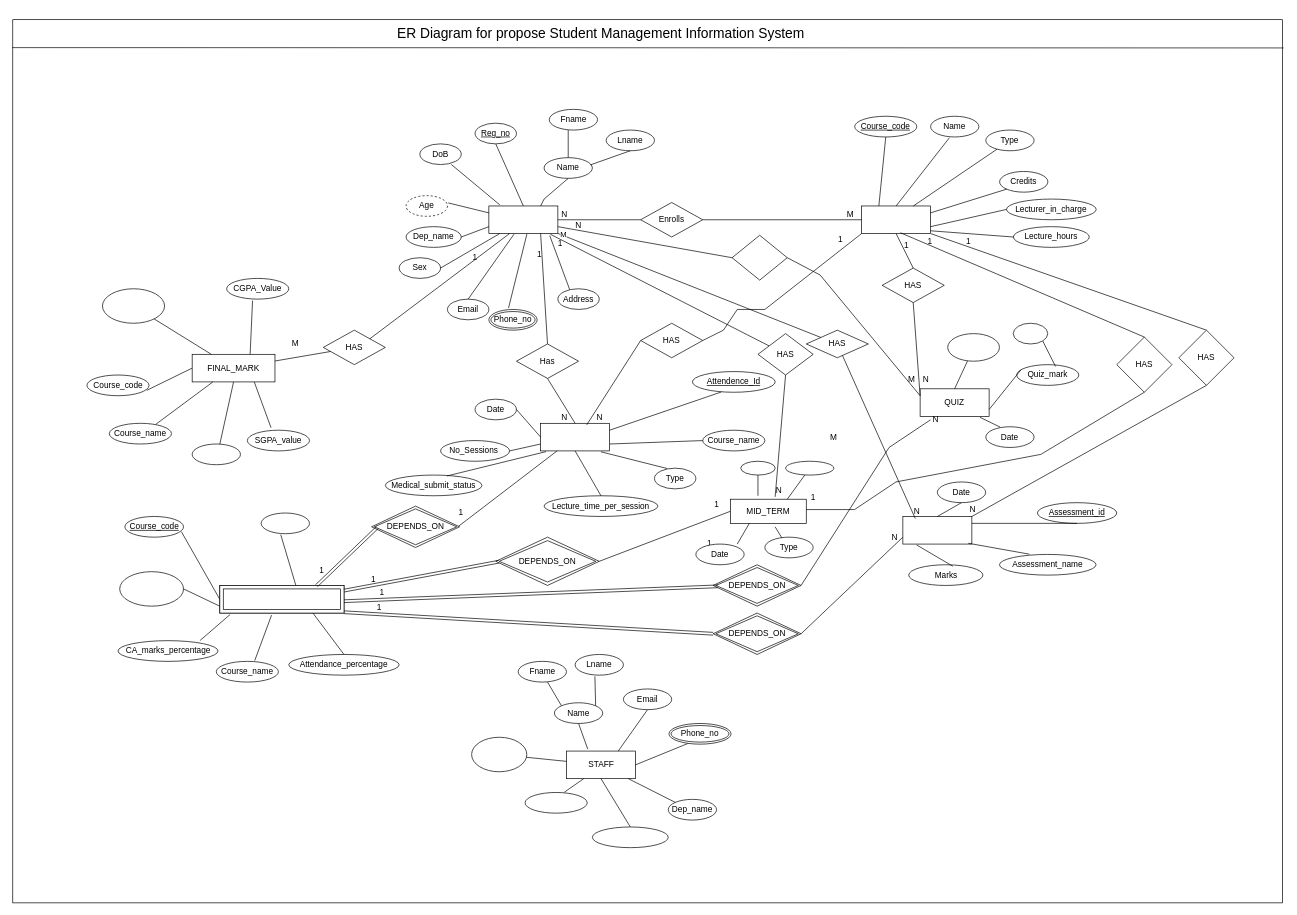
The diagram is 1297 pixels wide and 915 high, and some of its shapes have lost their labels. The shapes that lost their labels are listed below. From the top down, each one's centre as x and y in pixels, then its label:
At point 523,219: "STUDENT".
At point 896,219: "COURSE_UNIT".
At point 759,257: "Attempts".
At point 133,305: "Final_marks_ID".
At point 973,347: "Quiz_id".
At point 1030,333: "Quiz_no".
At point 215,454: "Grade".
At point 575,437: "ATTENDENCE".
At point 757,468: "mid_ID".
At point 809,468: "mid_marks".
At point 284,523: "Status".
At point 937,530: "ASSESSMENT".
At point 151,588: "Eligibility_ID".
At point 281,599: "ELIGIBILITY_STATUS".
At point 499,754: "Staff_ID".
At point 555,802: "Designation".
At point 630,837: "Start_work_date".
